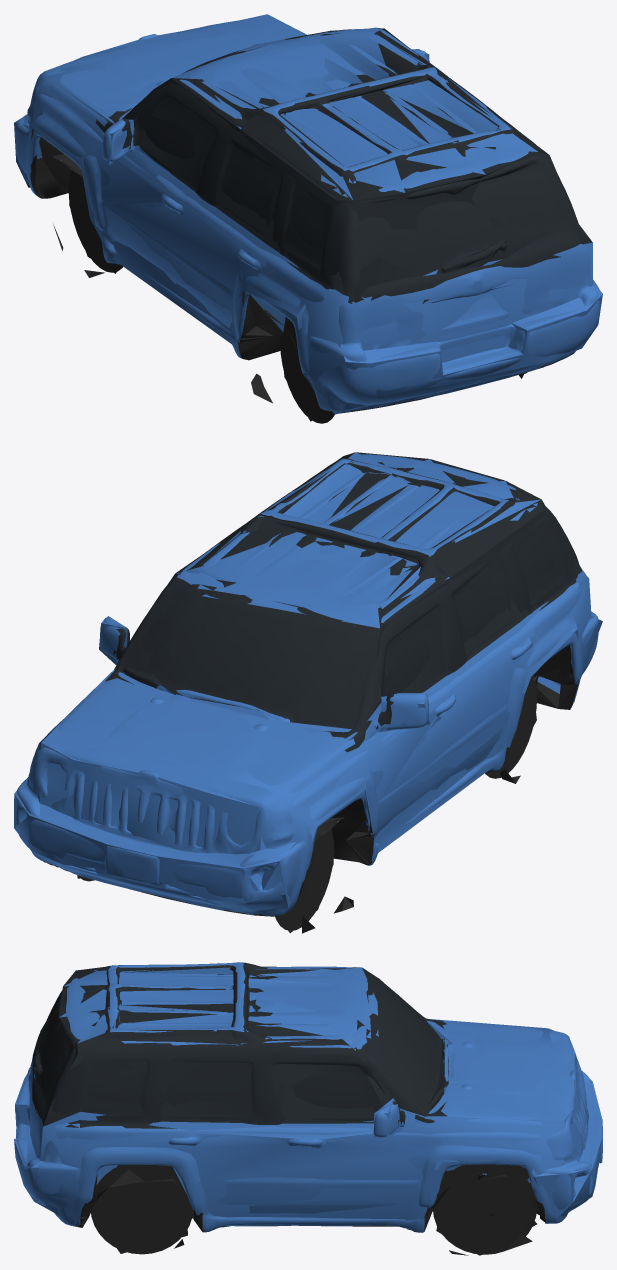
Rendered from jeep-patriot.glb.
The picture shows the model from 3 angles, top to bottom: view 1: azimuth 30°, elevation 25°; view 2: azimuth 150°, elevation 25°; view 3: azimuth 270°, elevation 25°; orthographic projection. The views are drawn at different scales.
Parts seen in each view (by area): view 1: body, far; view 2: body, far; view 3: body, far.
Part boxes in pixels (x1,y1,x2,y2): body: [15, 19, 600, 423]; far: [14, 14, 602, 421]; body: [16, 454, 598, 930]; far: [14, 452, 602, 933]; body: [14, 962, 602, 1255]; far: [14, 963, 602, 1255].
Bounding box in the file's own units: 2.38 × 1.85 × 4.48.
